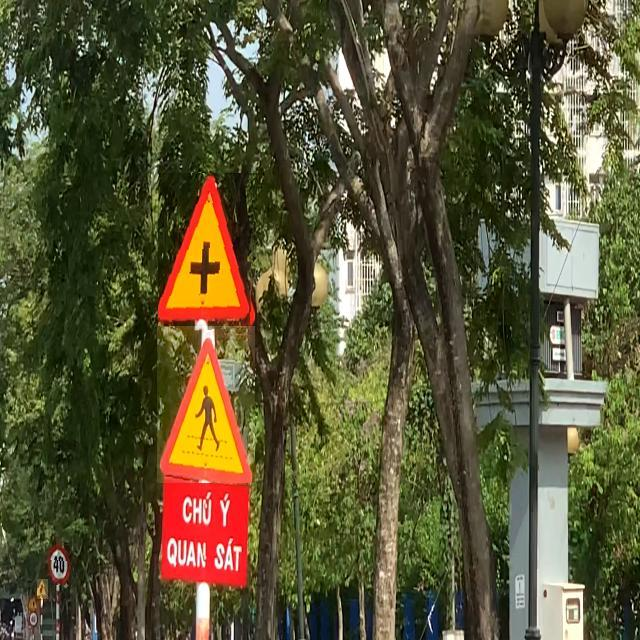P-127: (45, 542, 71, 585)
W-205a: (158, 173, 257, 334)
W-207b: (37, 580, 48, 600)
W-224: (157, 326, 255, 483)
